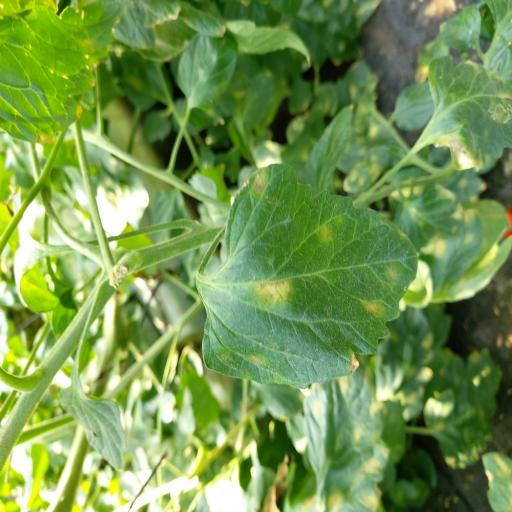disease_tomato: (202, 164, 418, 390)
